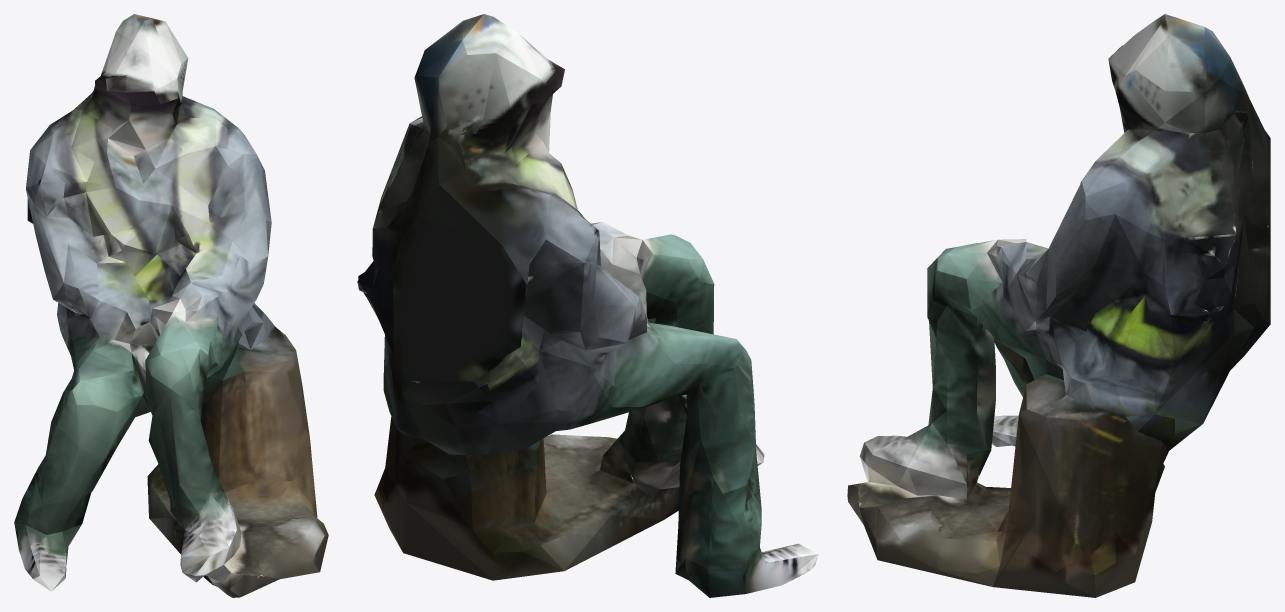
File: kakashi_16b.fbx
The picture shows the model from 3 angles, left to right: view 1: azimuth 30°, elevation 25°; view 2: azimuth 150°, elevation 25°; view 3: azimuth 270°, elevation 25°; orthographic projection. The views are drawn at different scales.
Visible parts, largest first — view 1: kakashi_16:Mesh; view 2: kakashi_16:Mesh; view 3: kakashi_16:Mesh.
Part boxes in pixels (box(x1,y1,x2,y2)): kakashi_16:Mesh: box(14, 14, 328, 597); kakashi_16:Mesh: box(357, 14, 818, 597); kakashi_16:Mesh: box(847, 14, 1270, 597).
Size of the model in its own units: 13.33 by 19.2 by 14.12.
1 material, 1 textured.
